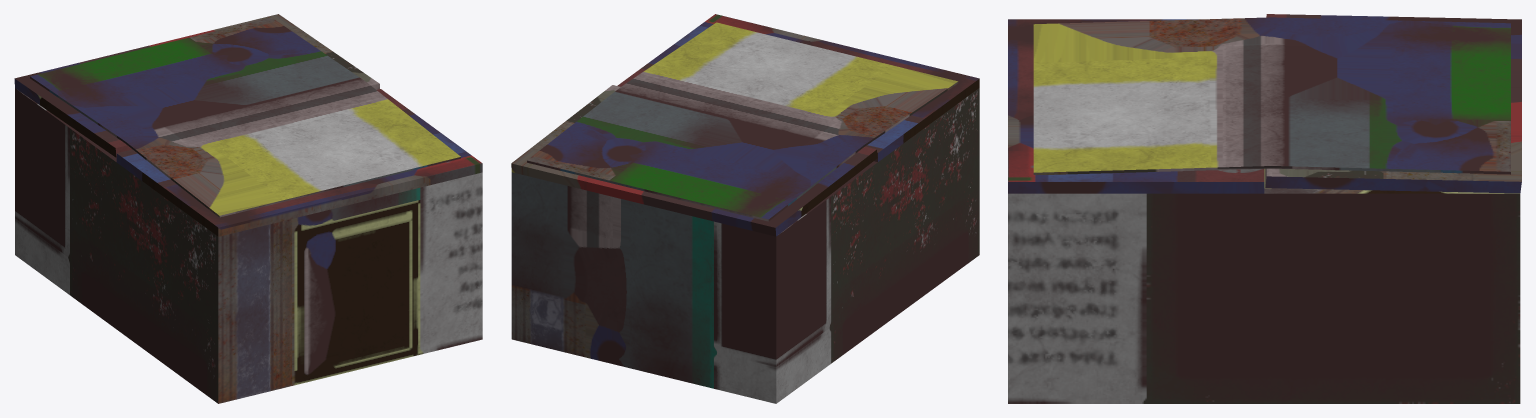
File: SecretBox.fbx
The picture shows the model from 3 angles, left to right: view 1: azimuth 30°, elevation 25°; view 2: azimuth 150°, elevation 25°; view 3: azimuth 270°, elevation 25°; orthographic projection. The views are drawn at different scales.
Visible parts, largest first — view 1: Box; view 2: Box; view 3: Box.
Part boxes in pixels (x1,y1,x2,y2): Box: (14,14,482,403); Box: (511,14,979,403); Box: (1008,14,1521,403).
Size of the model in its own units: 37.01 by 24.56 by 49.48.
